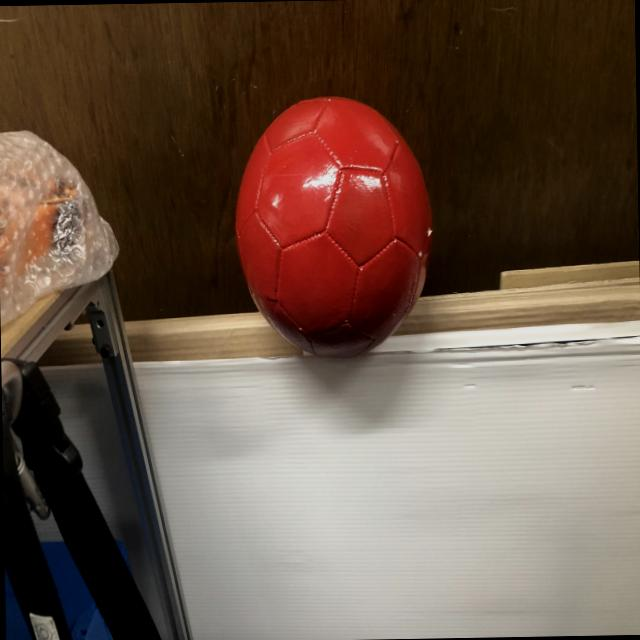red_ball: (234, 94, 434, 357)
